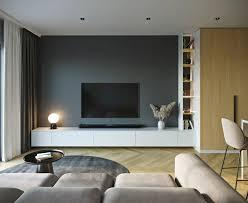TV: (73, 81, 147, 120)
chair: (214, 117, 248, 187)
console: (28, 124, 192, 147)
light: (45, 112, 64, 135), (75, 13, 92, 29), (211, 15, 222, 28), (139, 16, 155, 21)
sofa: (3, 157, 243, 203)
table: (24, 146, 68, 175), (238, 117, 248, 179)
